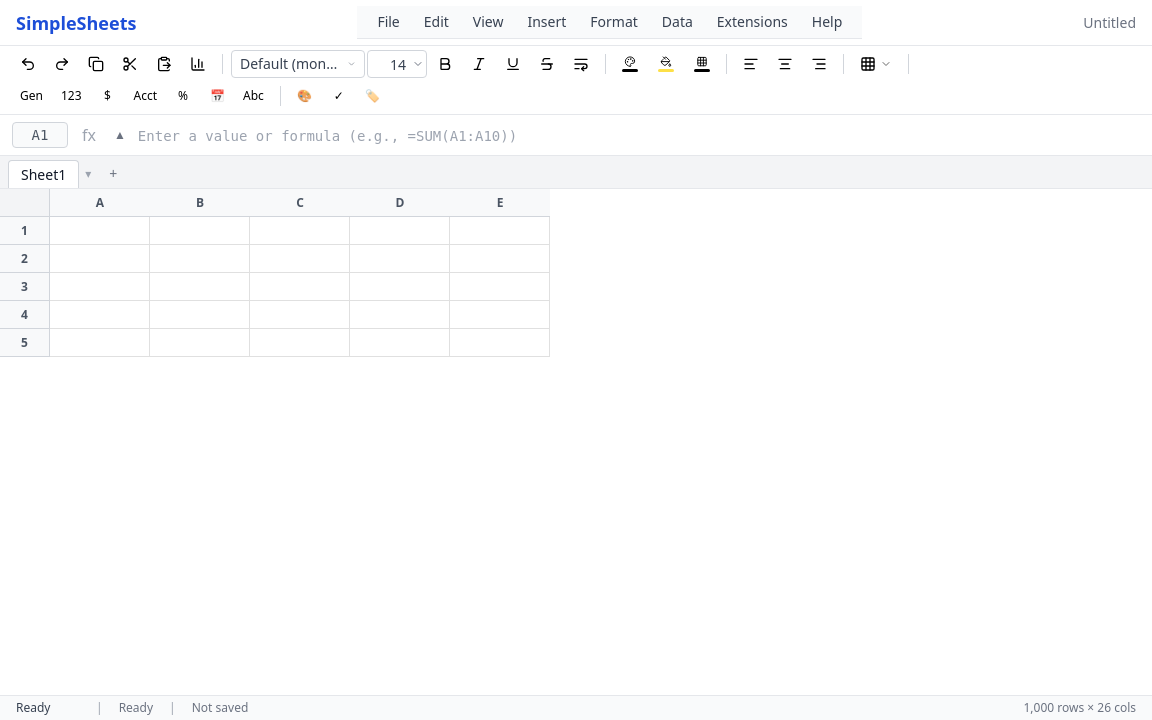
Test: App - Menu Handlers › closes Search & Replace modal on close button click
The width and height of the screenshot is (1152, 720).
Click the button "Edit" at (436, 22), box [412, 8, 461, 36]
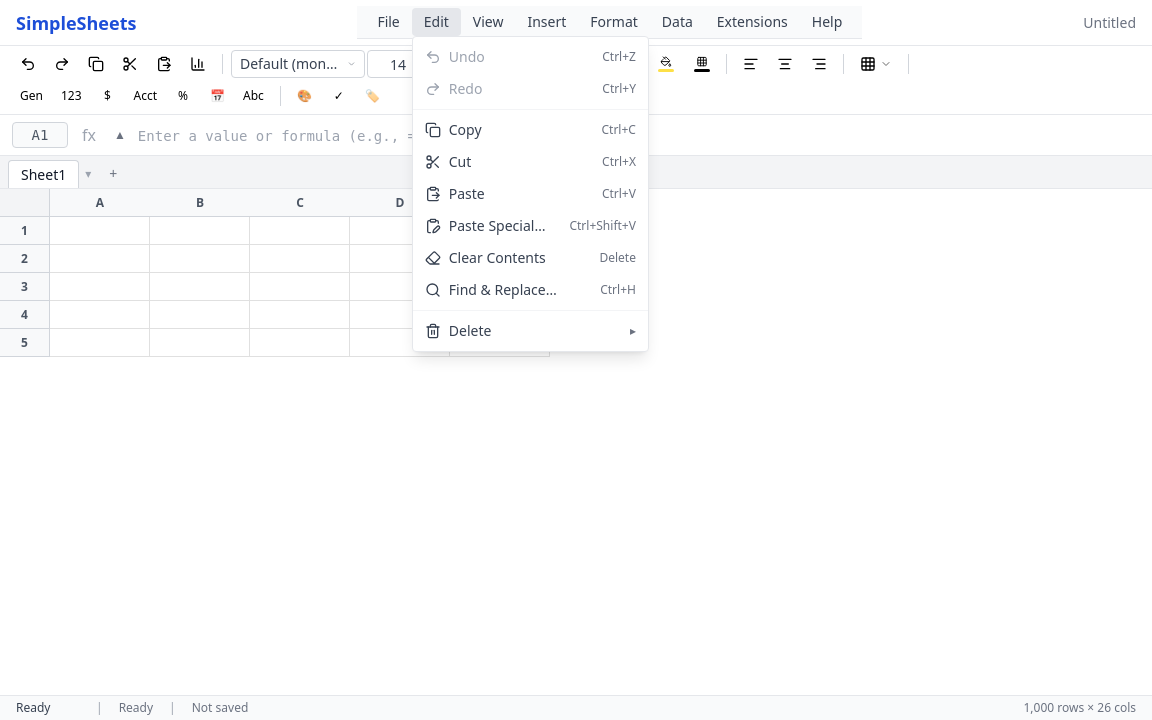
Click the text "Find & Replace…" at (503, 290), box [449, 280, 557, 299]
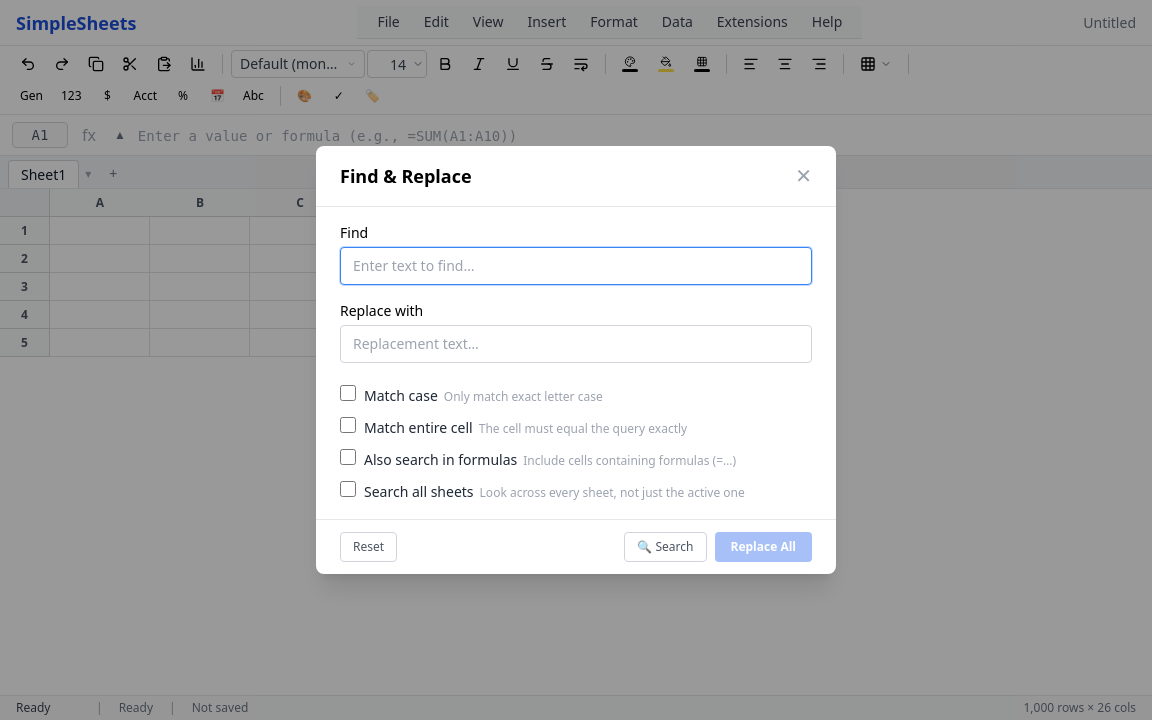
Check: the heading "Find & Replace" is shown, box [340, 162, 472, 190]
Click the button named "Close" at (804, 176), box [795, 162, 812, 190]
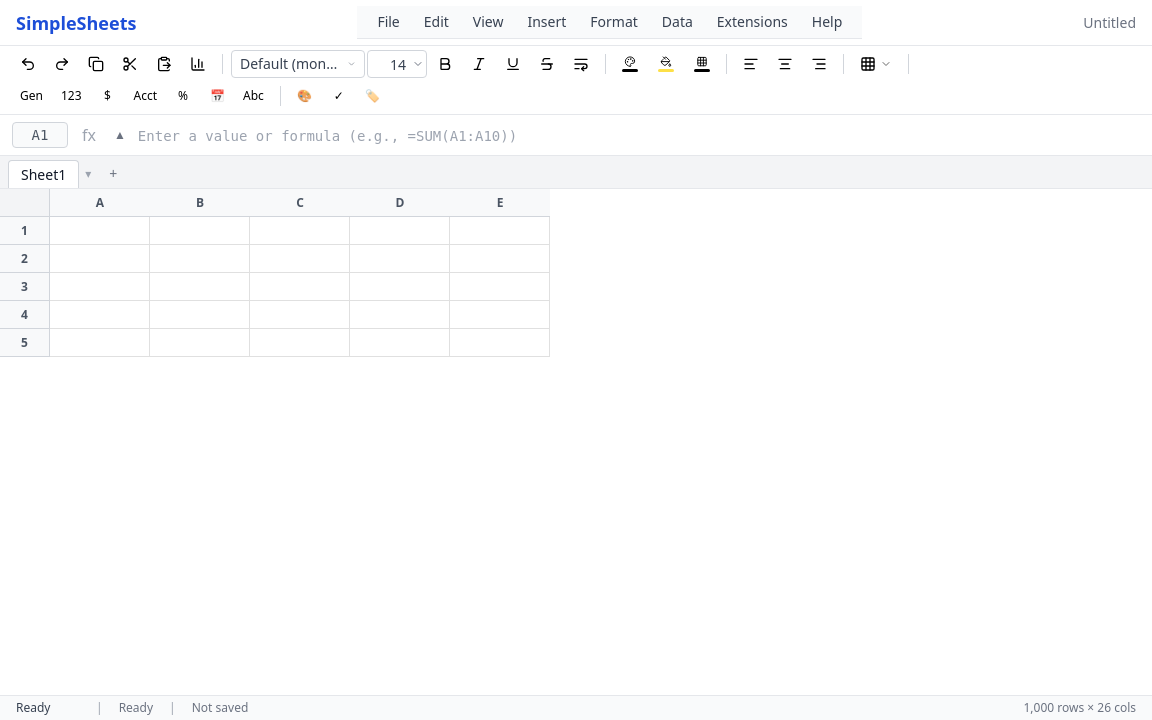
Check: the heading "Find & Replace" is gone
